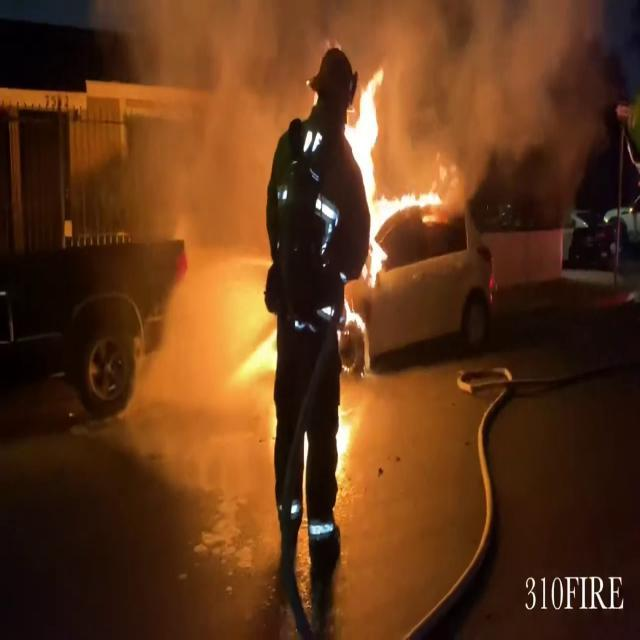Fire: (343, 63, 397, 277)
Smoke: (116, 1, 320, 250), (389, 2, 633, 180)
